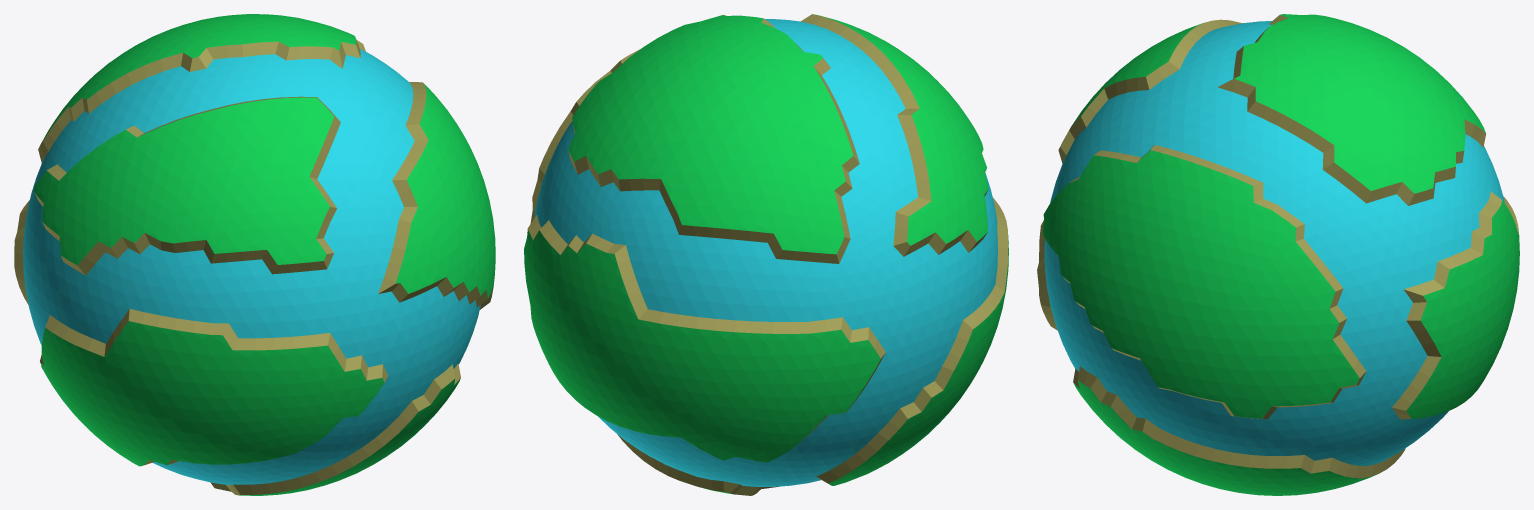
3 renders of one model, left to right at view 1: azimuth 30°, elevation 25°; view 2: azimuth 150°, elevation 25°; view 3: azimuth 270°, elevation 25°, orthographic.
Parts seen in each view (by area): view 1: Icosphere; view 2: Icosphere; view 3: Icosphere.
Part boxes in pixels (<box>): Icosphere: <box>14,14,495,495</box>; Icosphere: <box>524,14,1008,495</box>; Icosphere: <box>1037,14,1519,495</box>.
Bounding box in the file's own units: 1037 × 1040 × 1036.
